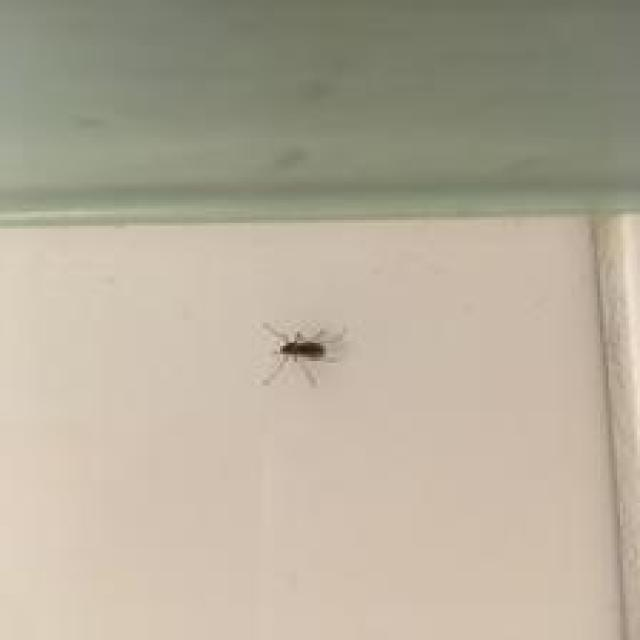Culex: (260, 320, 346, 389)
